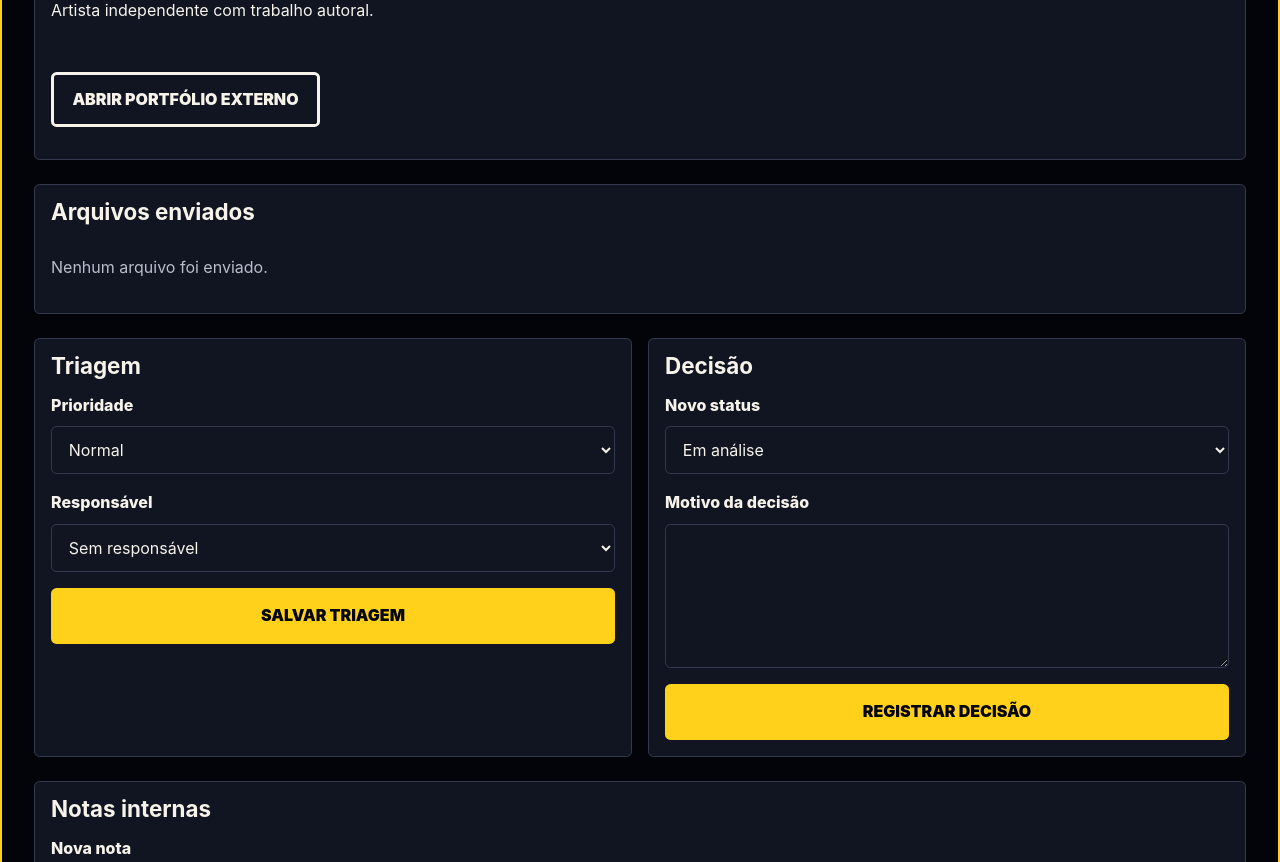
Test: ficha administrativa de inscrição › confirma e registra uma decisão com motivo
(page scrolled)
Expected: the text "Artista independente com trabalho autoral." is shown, [51,0,374,20]
Select "Aprovada" in the dropdown labelled "Novo status": (947, 450) [665,426,1229,474]
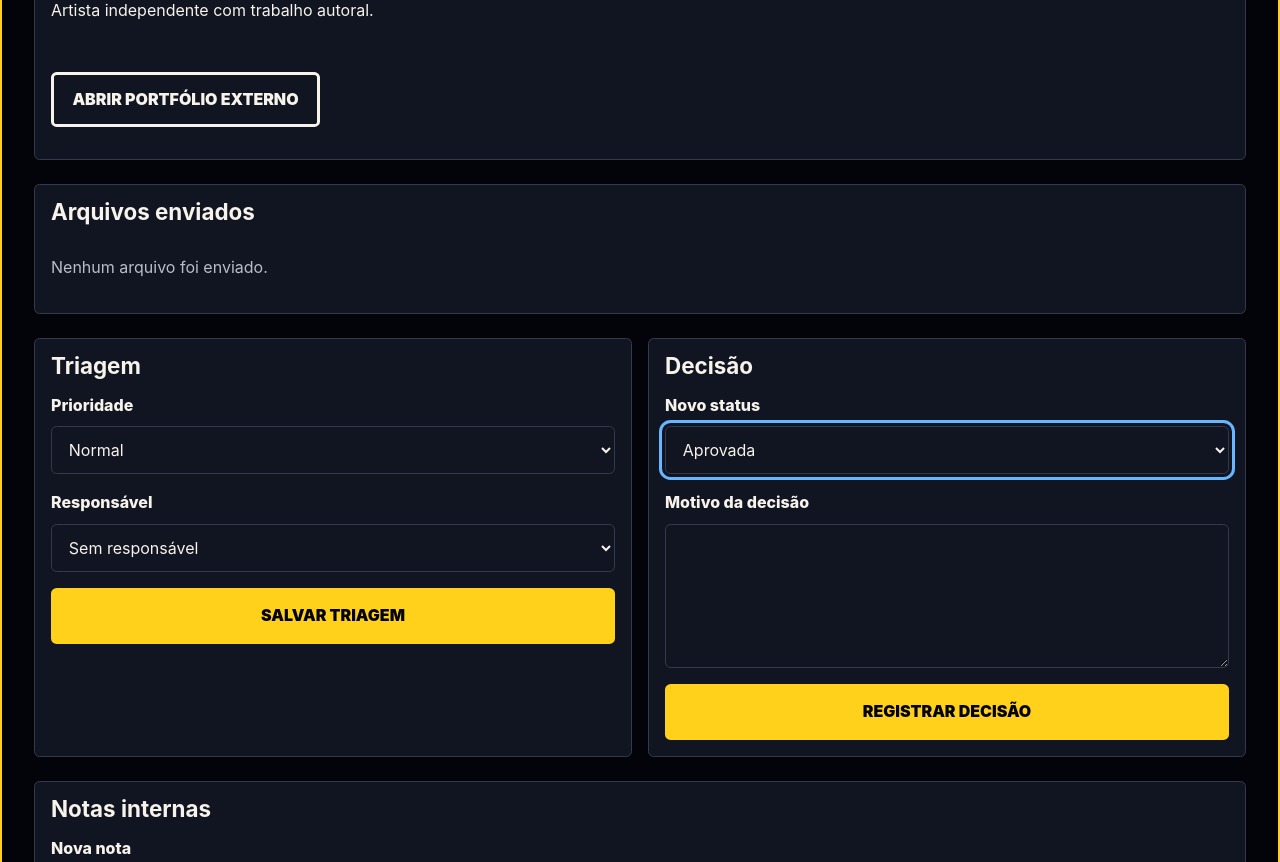
In the text box labelled "Motivo da decisão": (947, 596) [665,524,1229,668], type "Aprovada pela curadoria"
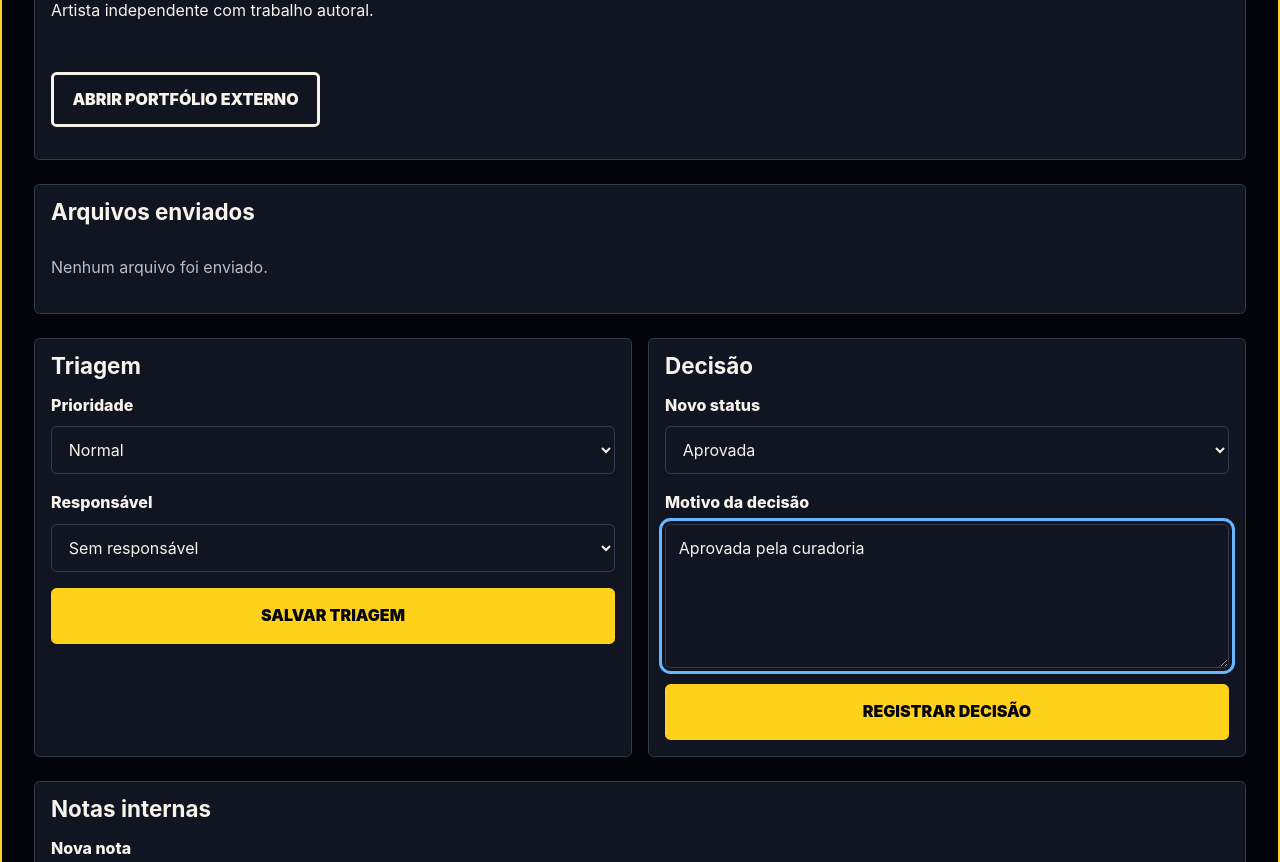
Click the button "REGISTRAR DECISÃO": (947, 712) [665,684,1229,740]
(page scrolled)
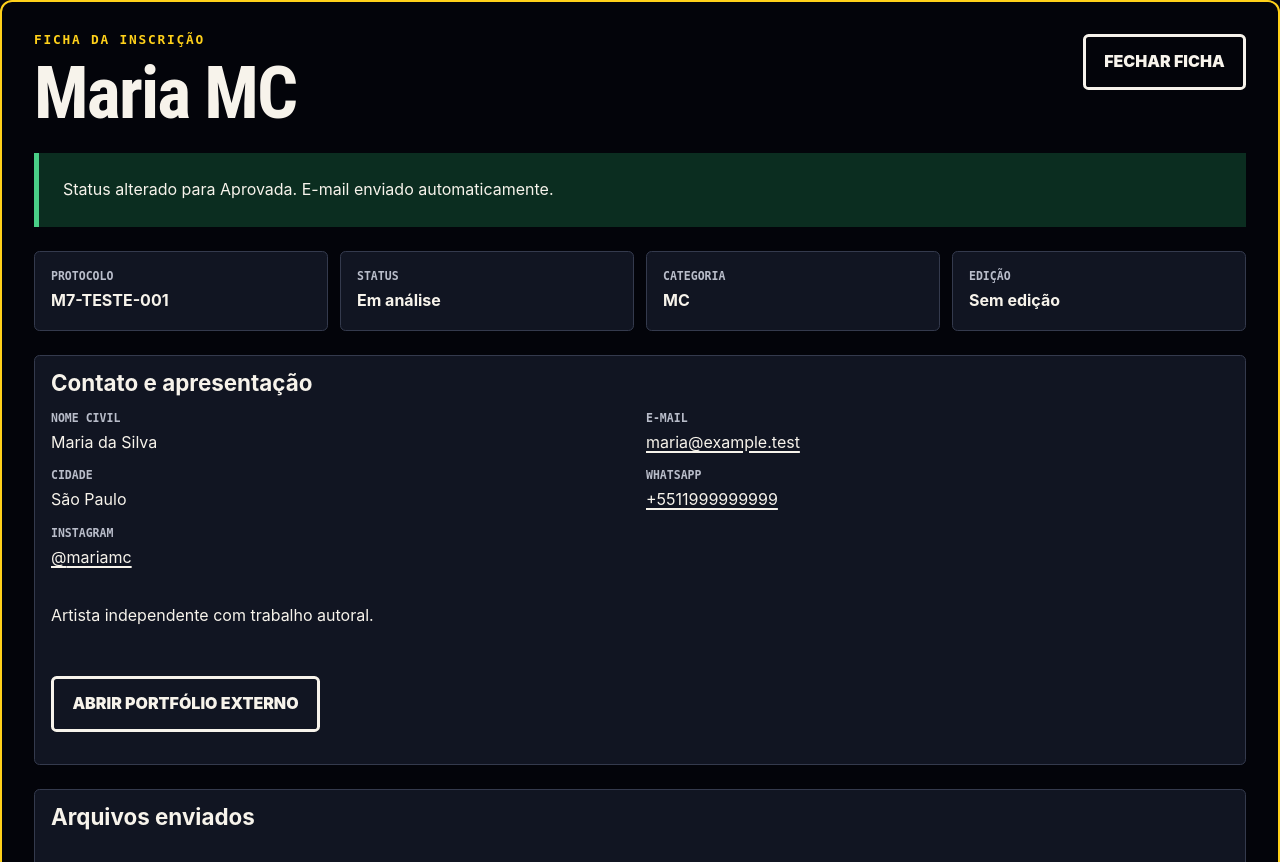
Expected: the text "Status alterado para Aprovada. E-mail enviado automaticamente." is shown, [34,153,1246,227]
